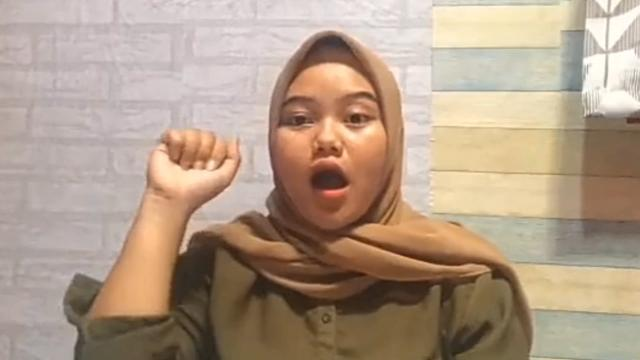A: (146, 126, 242, 212)
